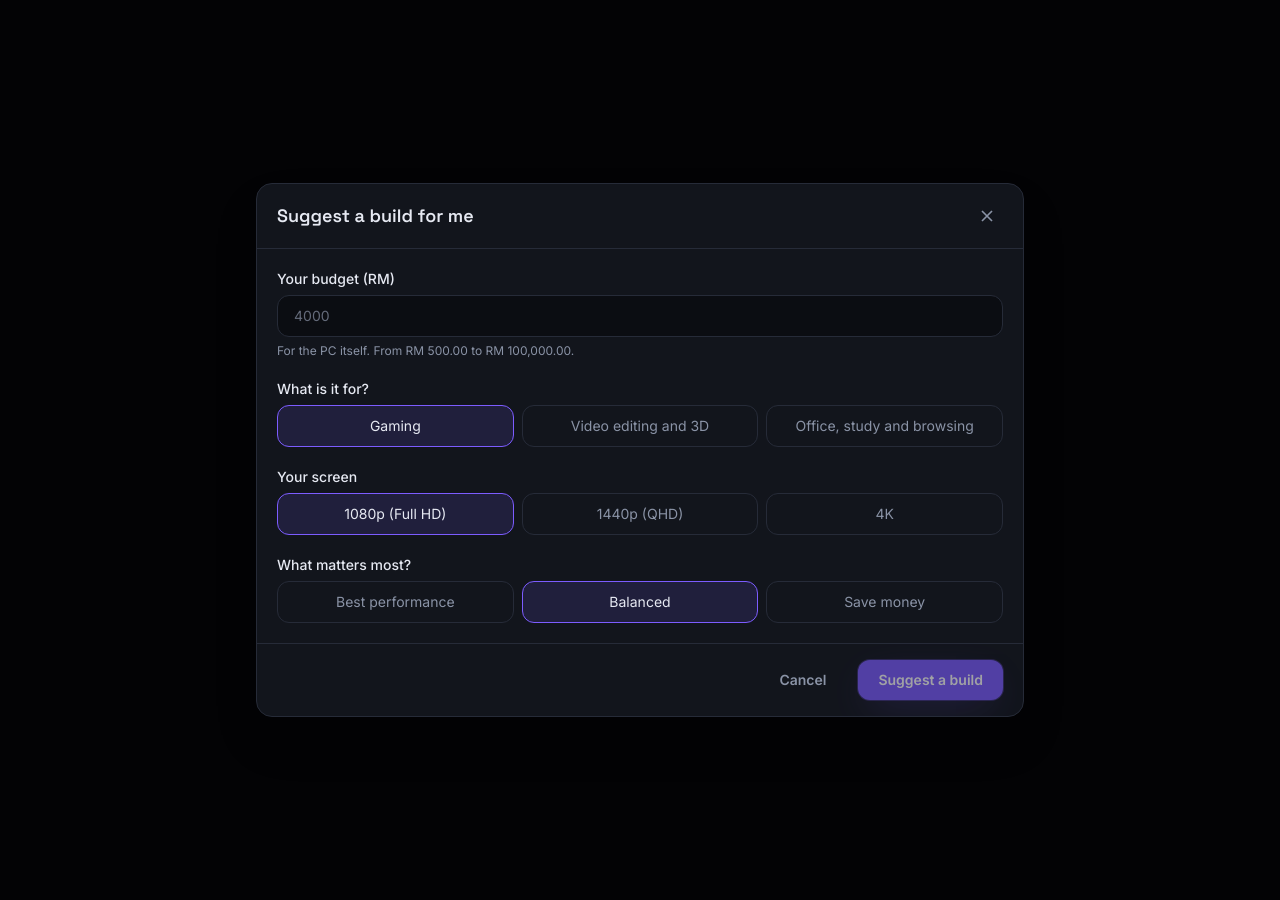
Test: the brief › catches a budget that is not an amount before asking the server
In the field with placeholder "4000": (640, 316) left=277, top=295, right=1003, bottom=337, type "about four thousand"
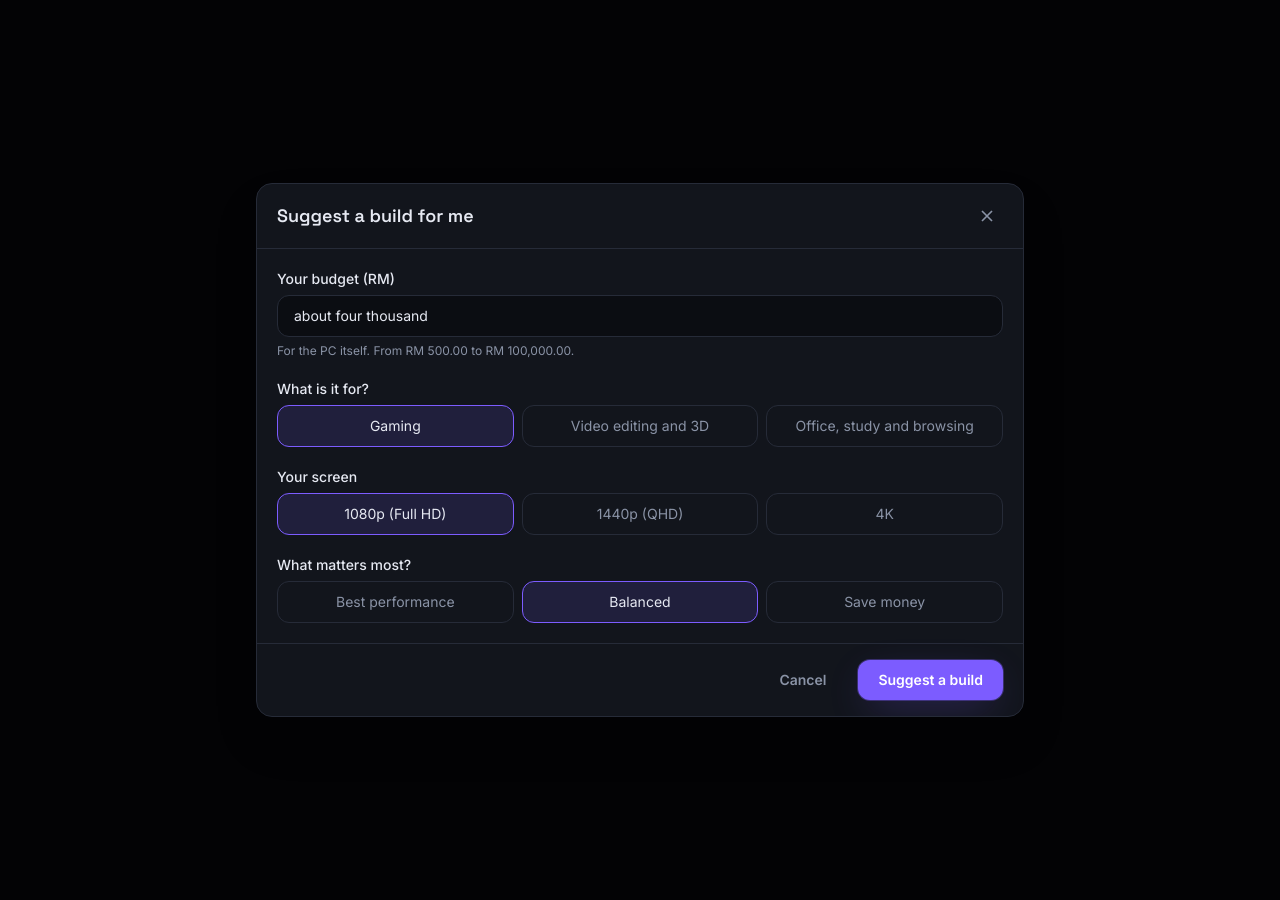
Submit the form with id "recommend-form", box left=257, top=249, right=1023, bottom=643
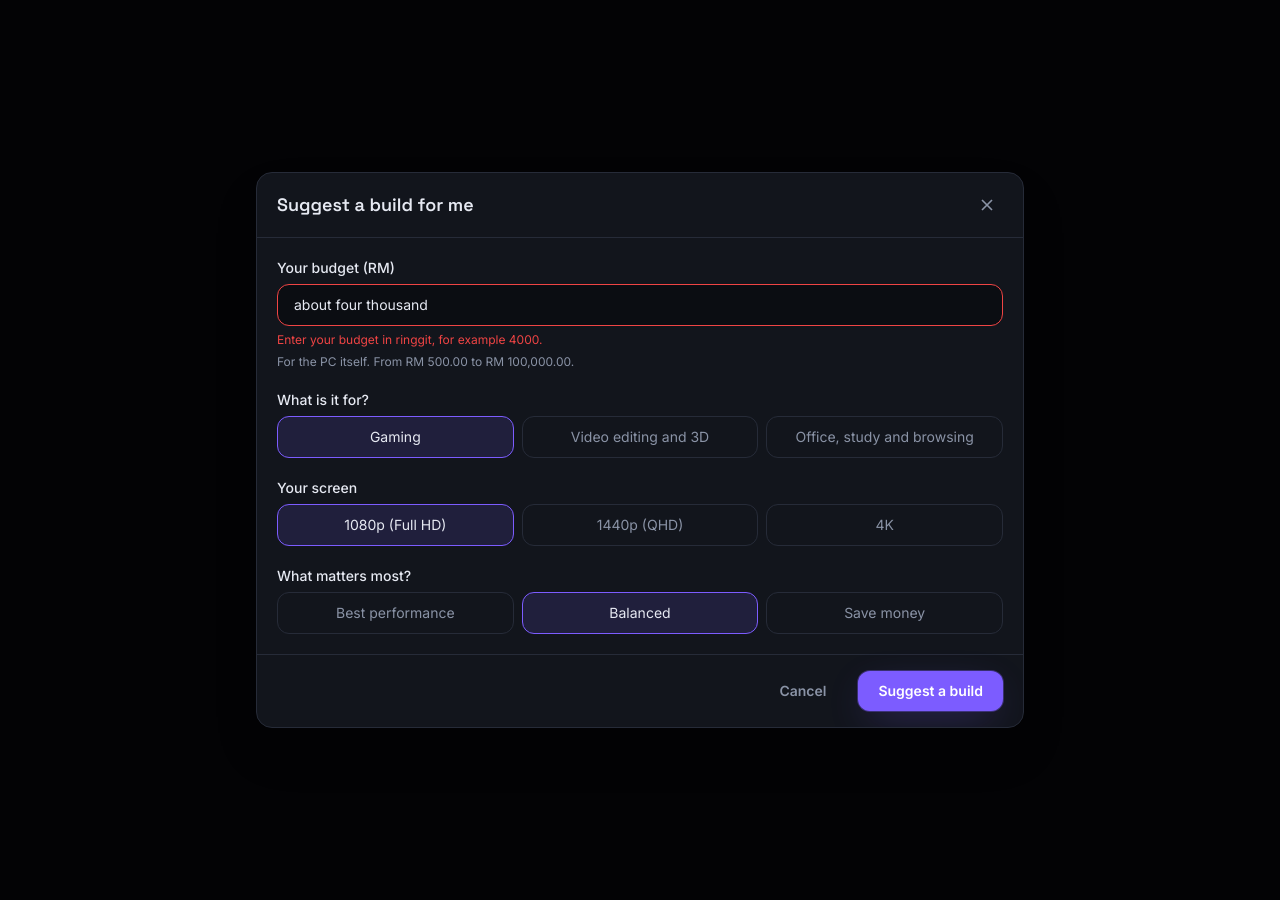
Expected: the text "Enter your budget in ringgit, for example 4000." is shown, left=277, top=332, right=542, bottom=347
